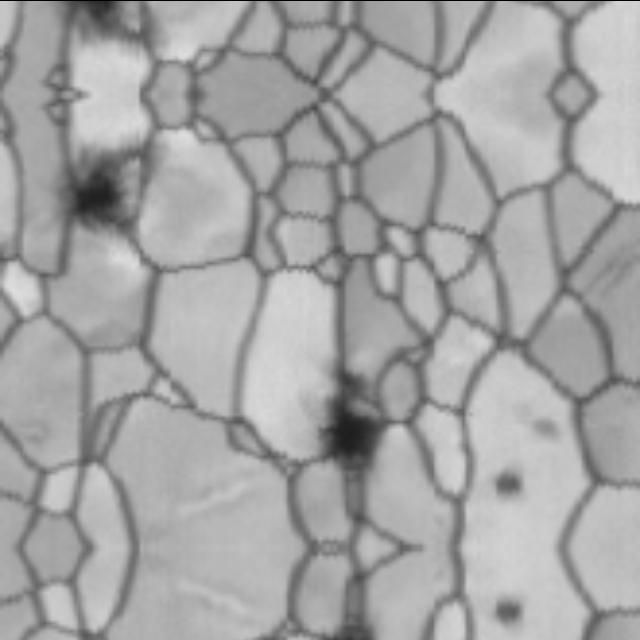good_void: (299, 360, 404, 485), (45, 140, 145, 247), (59, 0, 133, 38), (525, 409, 570, 452), (488, 466, 525, 504), (488, 590, 525, 627)
